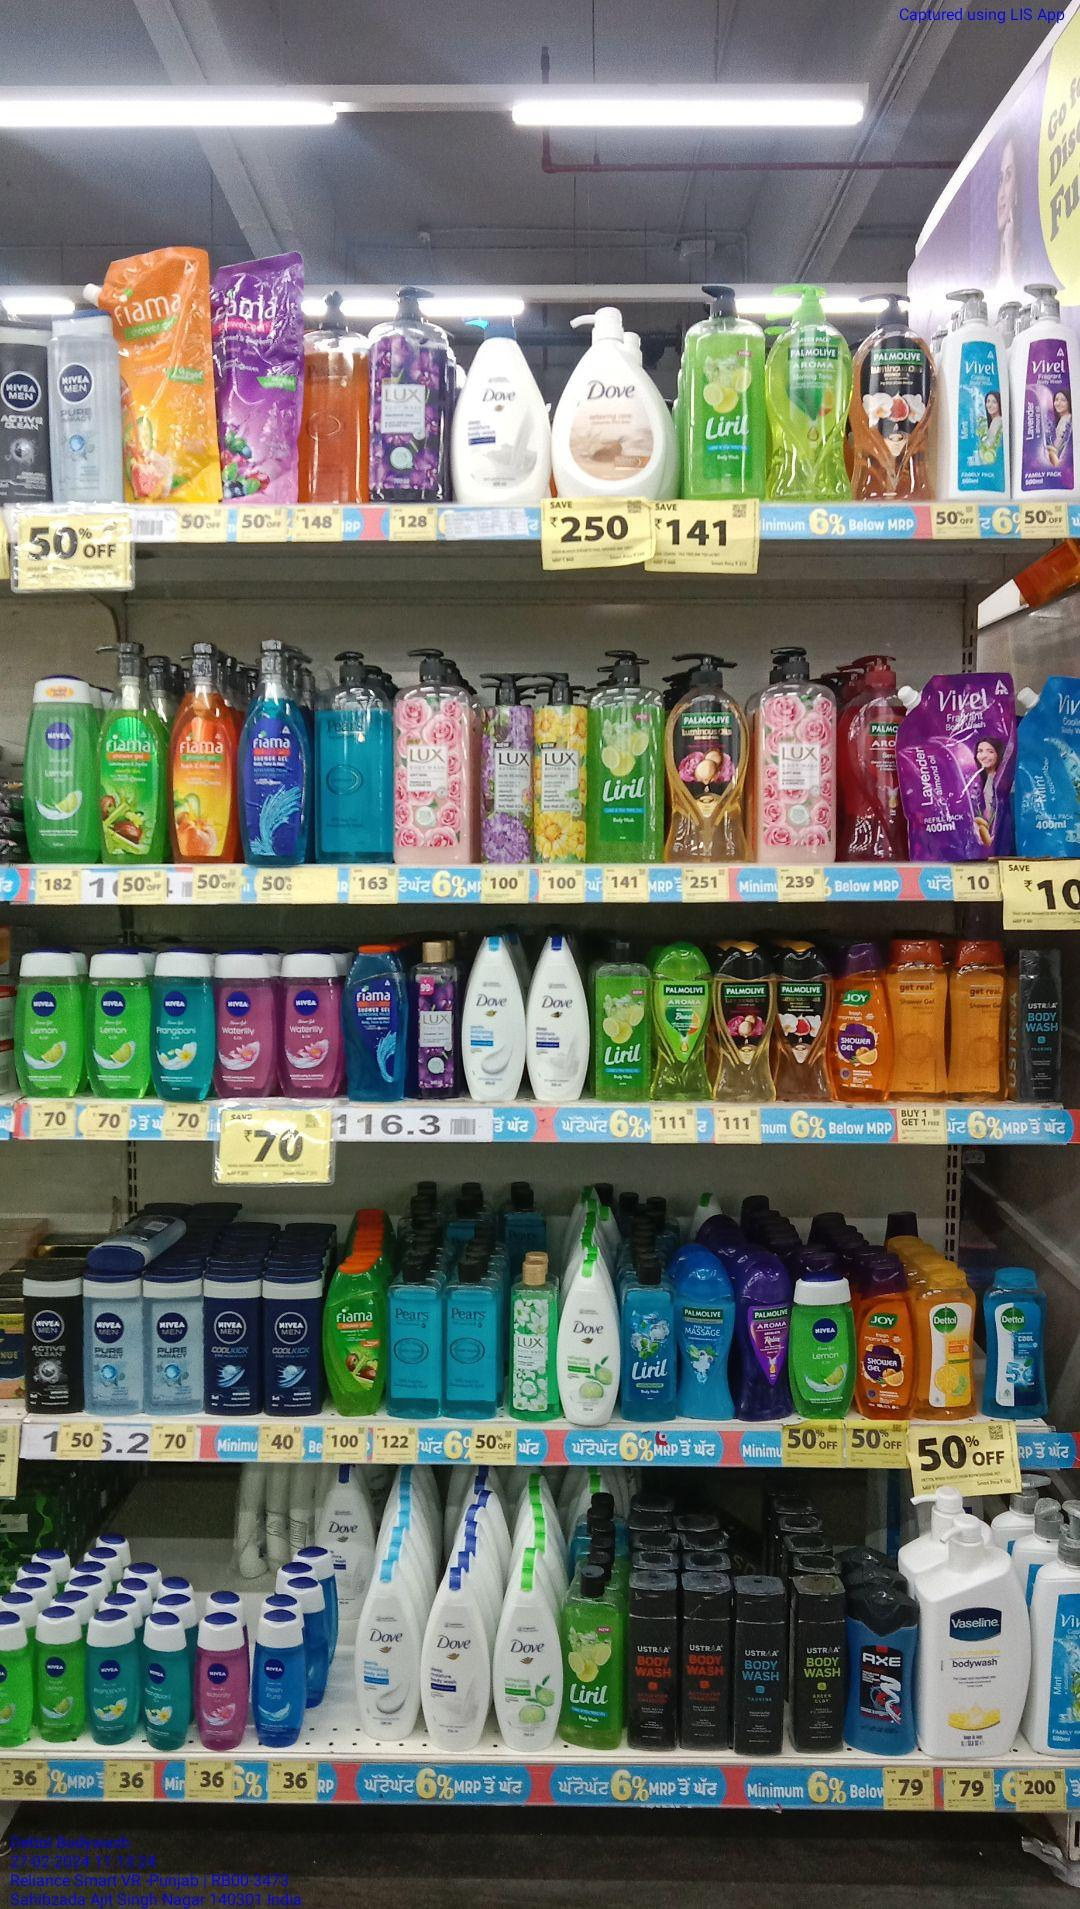Dettol_Bodywash_Cool: (987, 1268, 1050, 1424)
Dettol_Bodywash_Refresh: (919, 1273, 976, 1423)
Dove_Deep_Moisture_Body_Wash_250ML: (423, 1569, 488, 1749), (527, 932, 587, 1103)
Dove_Gentle_Exfoliating_Body_Wash_250ML: (358, 1569, 418, 1741), (463, 934, 520, 1105)
Dove_Refreshing_Body_Wash_250ML: (498, 1575, 558, 1752), (558, 1263, 616, 1428)
Fiama_Shower_Gel_Lemongrass_and_Jojoba_250ML: (326, 1259, 387, 1419)
Get_Real_Shower_Gel_Moisturising_Glycerin_300ML: (952, 935, 1009, 1104), (890, 936, 948, 1101)
Joy_Shower_Gel_Mandarin_and_Lemongrass_250ML: (835, 943, 887, 1104)
Joy_Shower_Gel_Mint_and_Eucalyptus_250ML: (856, 1261, 914, 1421)
Liril_Cooling_Mint_Body_Wash_250ML: (621, 1259, 676, 1425)
Liril_Lime_and_Tea_Tree_Oil_Body_Wash_250ML: (561, 1571, 627, 1749), (594, 936, 651, 1105)
Lux_Black_Orchid_Scent_and_Juniper_Oil_Body_Wash_245ML: (412, 940, 460, 1099)
Lux_Body_Wash_Skin_Detox_Freesia_Scent_and_Alove_Vera_245ML: (506, 1259, 554, 1423)
Nivea_Shower_Gel_Frangipani_and_Oil_250ML: (153, 949, 214, 1104), (87, 1613, 138, 1746), (143, 1615, 182, 1753)
Nivea_Shower_Gel_Lemon_and_Oil_250ML: (24, 673, 101, 867), (14, 951, 81, 1099), (87, 945, 149, 1103), (794, 1276, 852, 1423), (35, 1607, 84, 1744), (0, 1614, 31, 1749)
Nivea_Shower_Gel_Waterlily_and_Oil_250ML: (278, 945, 338, 1100), (216, 947, 274, 1100), (191, 1621, 248, 1750)
Palmolive_Aroma_Moments_Feel_The_Massage_Shower_Gel_250ML: (678, 1260, 734, 1424)
Palmolive_Aroma_Morning_Tonic_Shower_Gel_250ML: (654, 945, 710, 1104)
Palmolive_Aroma_Relax_250ML: (739, 1265, 789, 1427)
Palmolive_Luminous_Oils_Invigorating_Macadamia_Oil_With_Peony_250ML: (714, 940, 777, 1107)
Palmolive_Luminous_Oils_With_White_Orchid_Shower_Gel_250ML: (779, 939, 831, 1107)
Pears_Pure_Glycerin_and_Mint_Extracts_Body_Wash_250ML: (444, 1263, 498, 1421), (391, 1259, 440, 1421)
